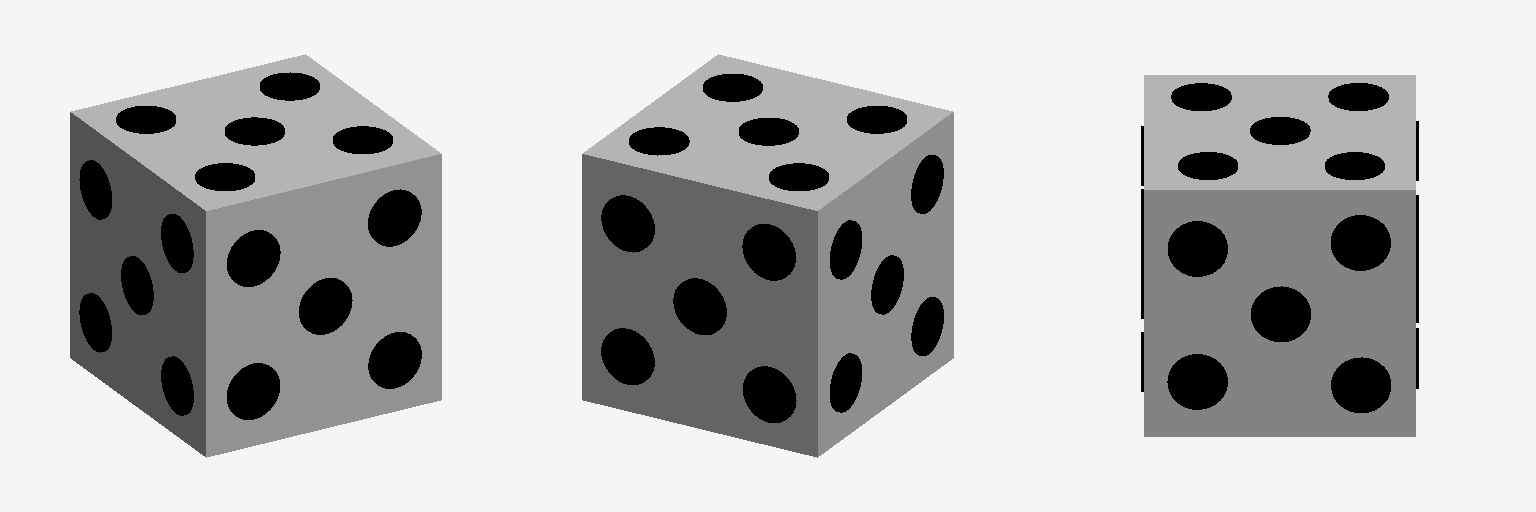
File: dice_5.obj
The picture shows the model from 3 angles: view 1: azimuth 30°, elevation 25°; view 2: azimuth 150°, elevation 25°; view 3: azimuth 270°, elevation 25°; orthographic projection.
Parts seen in each view (by area): view 1: Shape_IndexedFaceSet.008, Shape_IndexedFaceSet.024, Shape_IndexedFaceSet.012, Shape_IndexedFaceSet.002, Shape_IndexedFaceSet.029, Shape_IndexedFaceSet.010, Shape_IndexedFaceSet.016, Shape_IndexedFaceSet.028, Shape_IndexedFaceSet.030, Shape_IndexedFaceSet.011, Shape_IndexedFaceSet, Shape_IndexedFaceSet.017 (+4 smaller); view 2: Shape_IndexedFaceSet.008, Shape_IndexedFaceSet.005, Shape_IndexedFaceSet.004, Shape_IndexedFaceSet.007, Shape_IndexedFaceSet.006, Shape_IndexedFaceSet.003, Shape_IndexedFaceSet.028, Shape_IndexedFaceSet.011, Shape_IndexedFaceSet.016, Shape_IndexedFaceSet.030, Shape_IndexedFaceSet, Shape_IndexedFaceSet.021 (+4 smaller); view 3: Shape_IndexedFaceSet.008, Shape_IndexedFaceSet.023, Shape_IndexedFaceSet.001, Shape_IndexedFaceSet.025, Shape_IndexedFaceSet.020, Shape_IndexedFaceSet.009, Shape_IndexedFaceSet.017, Shape_IndexedFaceSet.014, Shape_IndexedFaceSet.022, Shape_IndexedFaceSet.021, Shape_IndexedFaceSet.013.
Boxes of the visible parts, x1=… form: Shape_IndexedFaceSet.008: x1=70, y1=54, x2=441, y2=457; Shape_IndexedFaceSet.024: x1=368, y1=189, x2=421, y2=246; Shape_IndexedFaceSet.012: x1=368, y1=332, x2=421, y2=388; Shape_IndexedFaceSet.002: x1=227, y1=230, x2=280, y2=286; Shape_IndexedFaceSet.029: x1=227, y1=363, x2=279, y2=419; Shape_IndexedFaceSet.010: x1=299, y1=278, x2=352, y2=334; Shape_IndexedFaceSet.016: x1=161, y1=356, x2=193, y2=415; Shape_IndexedFaceSet.028: x1=161, y1=214, x2=193, y2=272; Shape_IndexedFaceSet.030: x1=79, y1=293, x2=111, y2=352; Shape_IndexedFaceSet.011: x1=121, y1=256, x2=153, y2=314; Shape_IndexedFaceSet: x1=79, y1=160, x2=111, y2=219; Shape_IndexedFaceSet.017: x1=225, y1=117, x2=284, y2=145; Shape_IndexedFaceSet.008: x1=582, y1=54, x2=953, y2=457; Shape_IndexedFaceSet.005: x1=601, y1=195, x2=654, y2=252; Shape_IndexedFaceSet.004: x1=601, y1=328, x2=654, y2=384; Shape_IndexedFaceSet.007: x1=743, y1=366, x2=796, y2=422; Shape_IndexedFaceSet.006: x1=673, y1=278, x2=726, y2=334; Shape_IndexedFaceSet.003: x1=742, y1=224, x2=795, y2=280; Shape_IndexedFaceSet.028: x1=911, y1=155, x2=943, y2=213; Shape_IndexedFaceSet.011: x1=871, y1=255, x2=903, y2=314; Shape_IndexedFaceSet.016: x1=911, y1=297, x2=943, y2=355; Shape_IndexedFaceSet.030: x1=830, y1=353, x2=861, y2=412; Shape_IndexedFaceSet: x1=830, y1=220, x2=861, y2=279; Shape_IndexedFaceSet.021: x1=629, y1=127, x2=689, y2=155; Shape_IndexedFaceSet.008: x1=1144, y1=75, x2=1415, y2=436; Shape_IndexedFaceSet.023: x1=1167, y1=354, x2=1227, y2=409; Shape_IndexedFaceSet.001: x1=1168, y1=221, x2=1227, y2=276; Shape_IndexedFaceSet.025: x1=1331, y1=215, x2=1390, y2=270; Shape_IndexedFaceSet.020: x1=1331, y1=357, x2=1390, y2=412; Shape_IndexedFaceSet.009: x1=1251, y1=286, x2=1310, y2=341; Shape_IndexedFaceSet.017: x1=1250, y1=117, x2=1310, y2=144; Shape_IndexedFaceSet.014: x1=1328, y1=83, x2=1388, y2=110; Shape_IndexedFaceSet.022: x1=1171, y1=83, x2=1231, y2=110; Shape_IndexedFaceSet.021: x1=1325, y1=152, x2=1384, y2=179; Shape_IndexedFaceSet.013: x1=1178, y1=152, x2=1237, y2=179.
Size of the model in its own units: 0.2337 by 0.2337 by 0.2337.